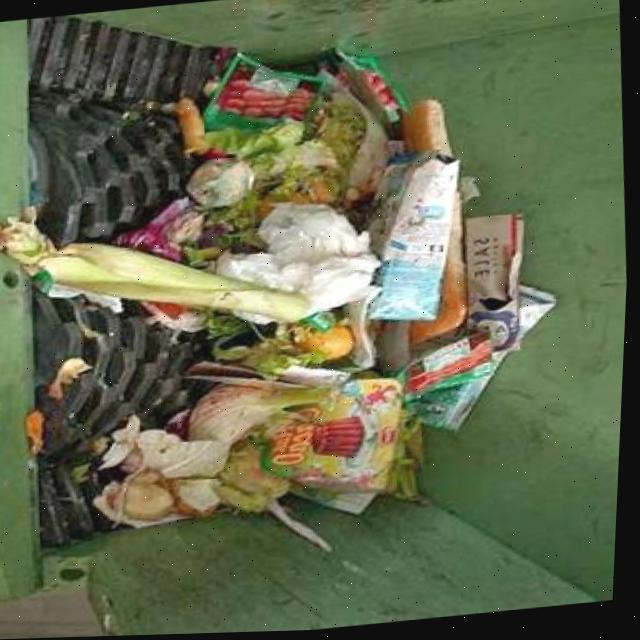Garbage: (0, 52, 558, 553)
Plastic: (262, 381, 405, 495), (410, 354, 511, 433), (404, 335, 497, 402), (521, 288, 558, 341), (305, 313, 338, 335)
Plastic_Container: (371, 160, 461, 323), (412, 200, 468, 346), (412, 354, 511, 433), (402, 103, 450, 157), (521, 289, 556, 341)
Thermocol: (218, 204, 382, 318)
